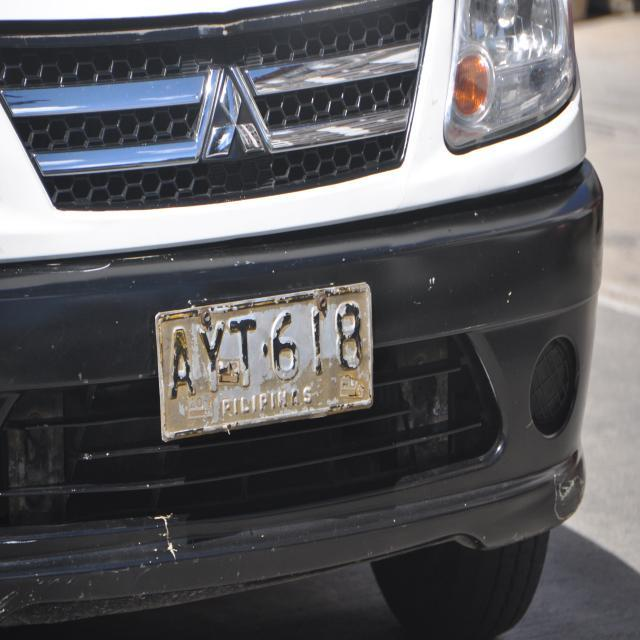LicensePlate: (132, 286, 392, 438)
